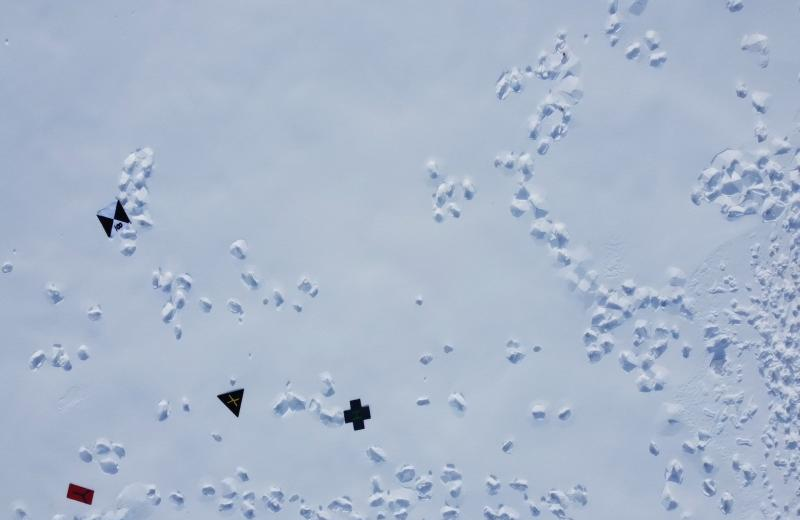Cross: (341, 396, 378, 433)
Rectangle: (66, 478, 98, 508)
Triangle: (214, 386, 249, 422)
